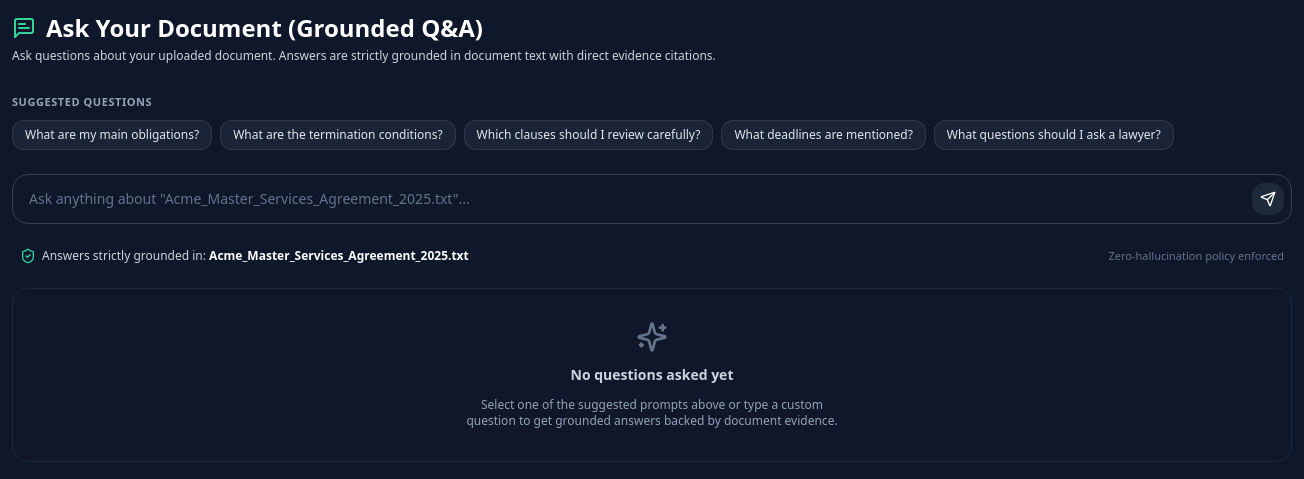
Scenario: GroundedAskView RTL Integration Tests › should render suggested question pills and update input on pill click
This screenshot has width=1304, height=479.
Expected: the heading "Ask Your Document (Grounded Q&A)" is shown, x1=12 y1=11 x2=483 y2=44
Click the button "What are the termination conditions?".
click(338, 135)  # box x1=220 y1=120 x2=456 y2=150
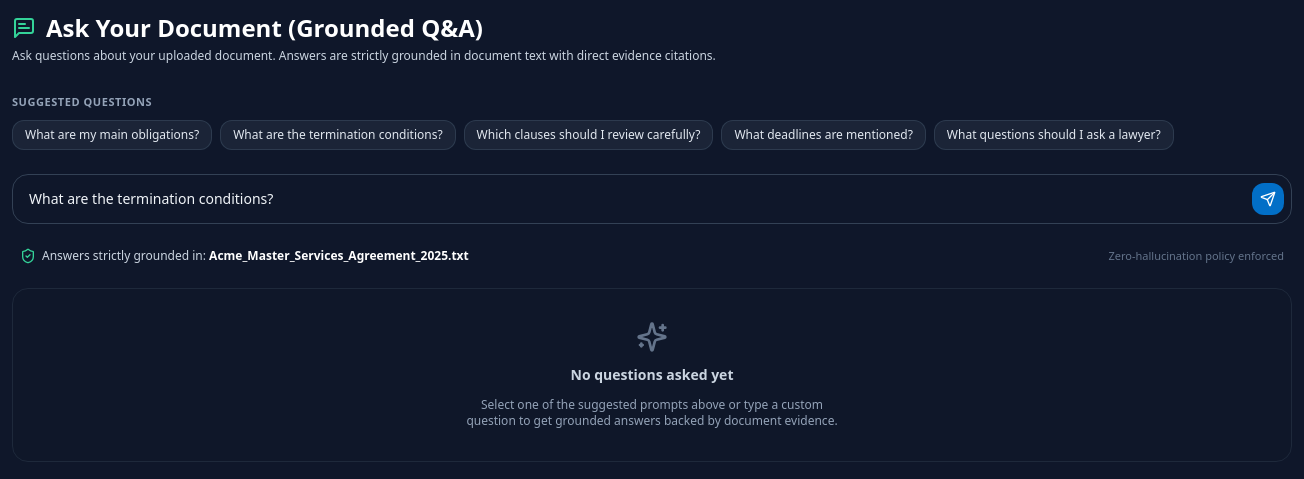
Expected: the field with placeholder "Ask anything about" holds "What are the termination conditions?", x1=12 y1=174 x2=1292 y2=224
